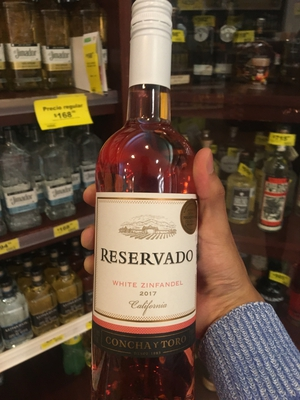reservado white zinfandel: (88, 6, 220, 400)
